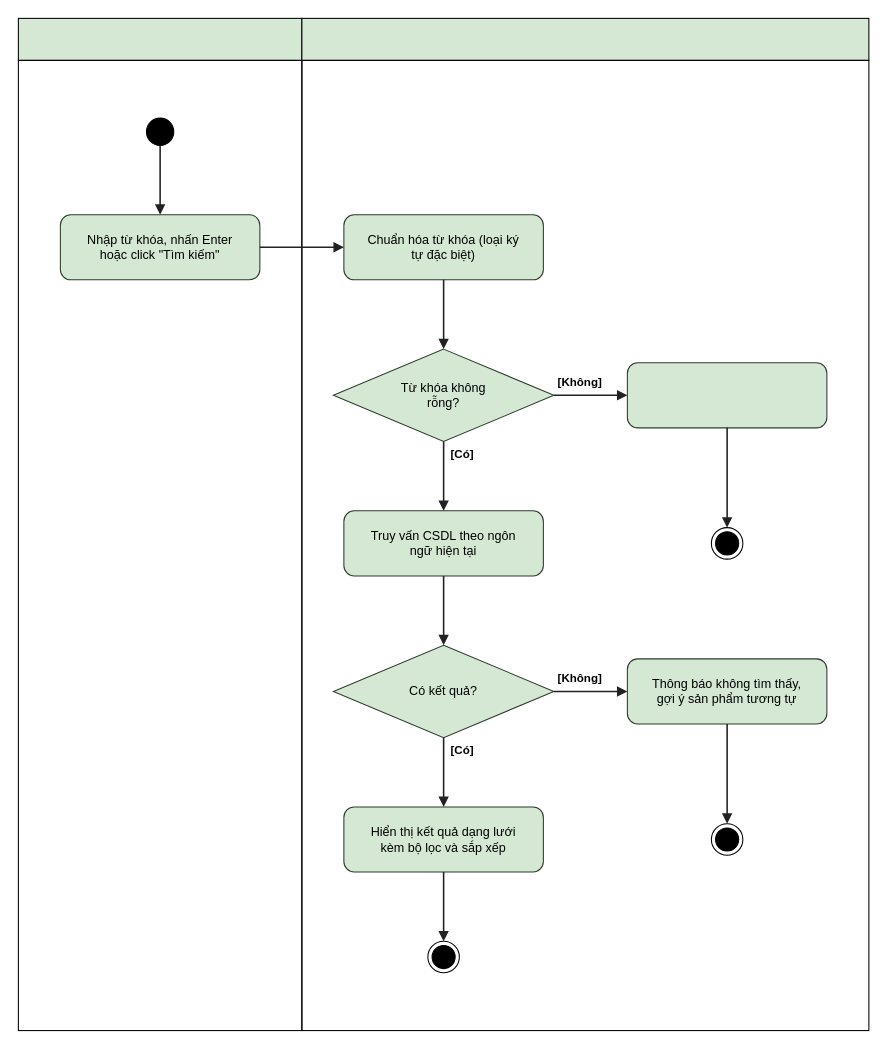
Some shapes in this 887 by 1049 pixel diagram are drawn without their labels. Each missing label, with the centre of its shape:
"Giữ nguyên trang hiện tại" belongs at point 726,395.
"HỆ THỐNG" belongs at point 585,38.
"NGƯỜI DÙNG" belongs at point 159,38.
